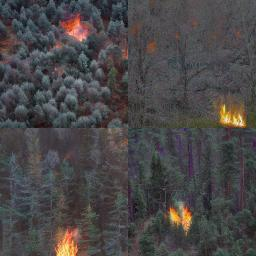Small fire: (58, 13, 90, 43), (217, 101, 249, 128), (167, 205, 194, 237), (50, 231, 80, 256)
